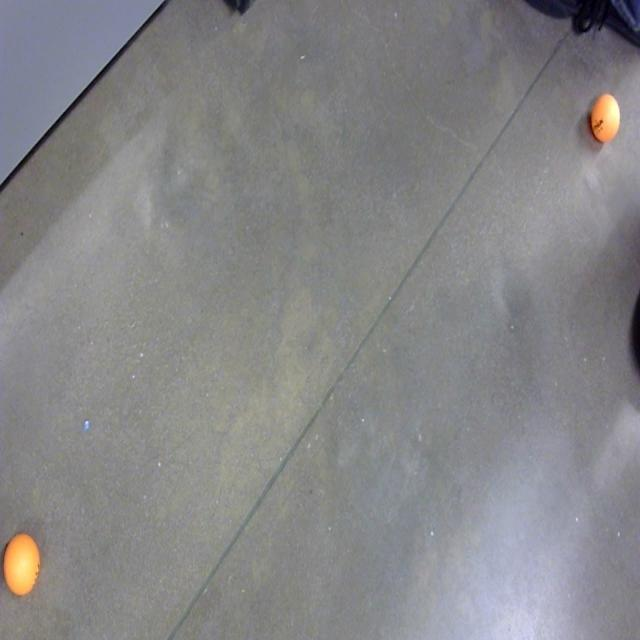ball: (3, 526, 43, 600), (590, 88, 621, 147)
